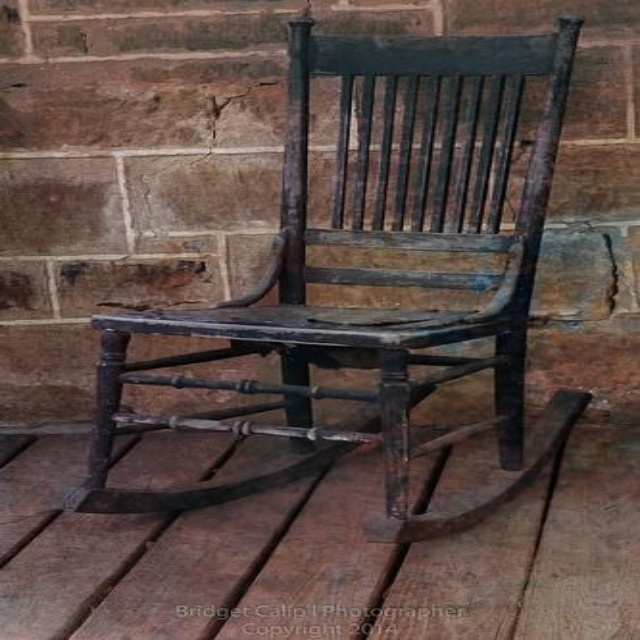obstacle: (73, 17, 580, 540)
